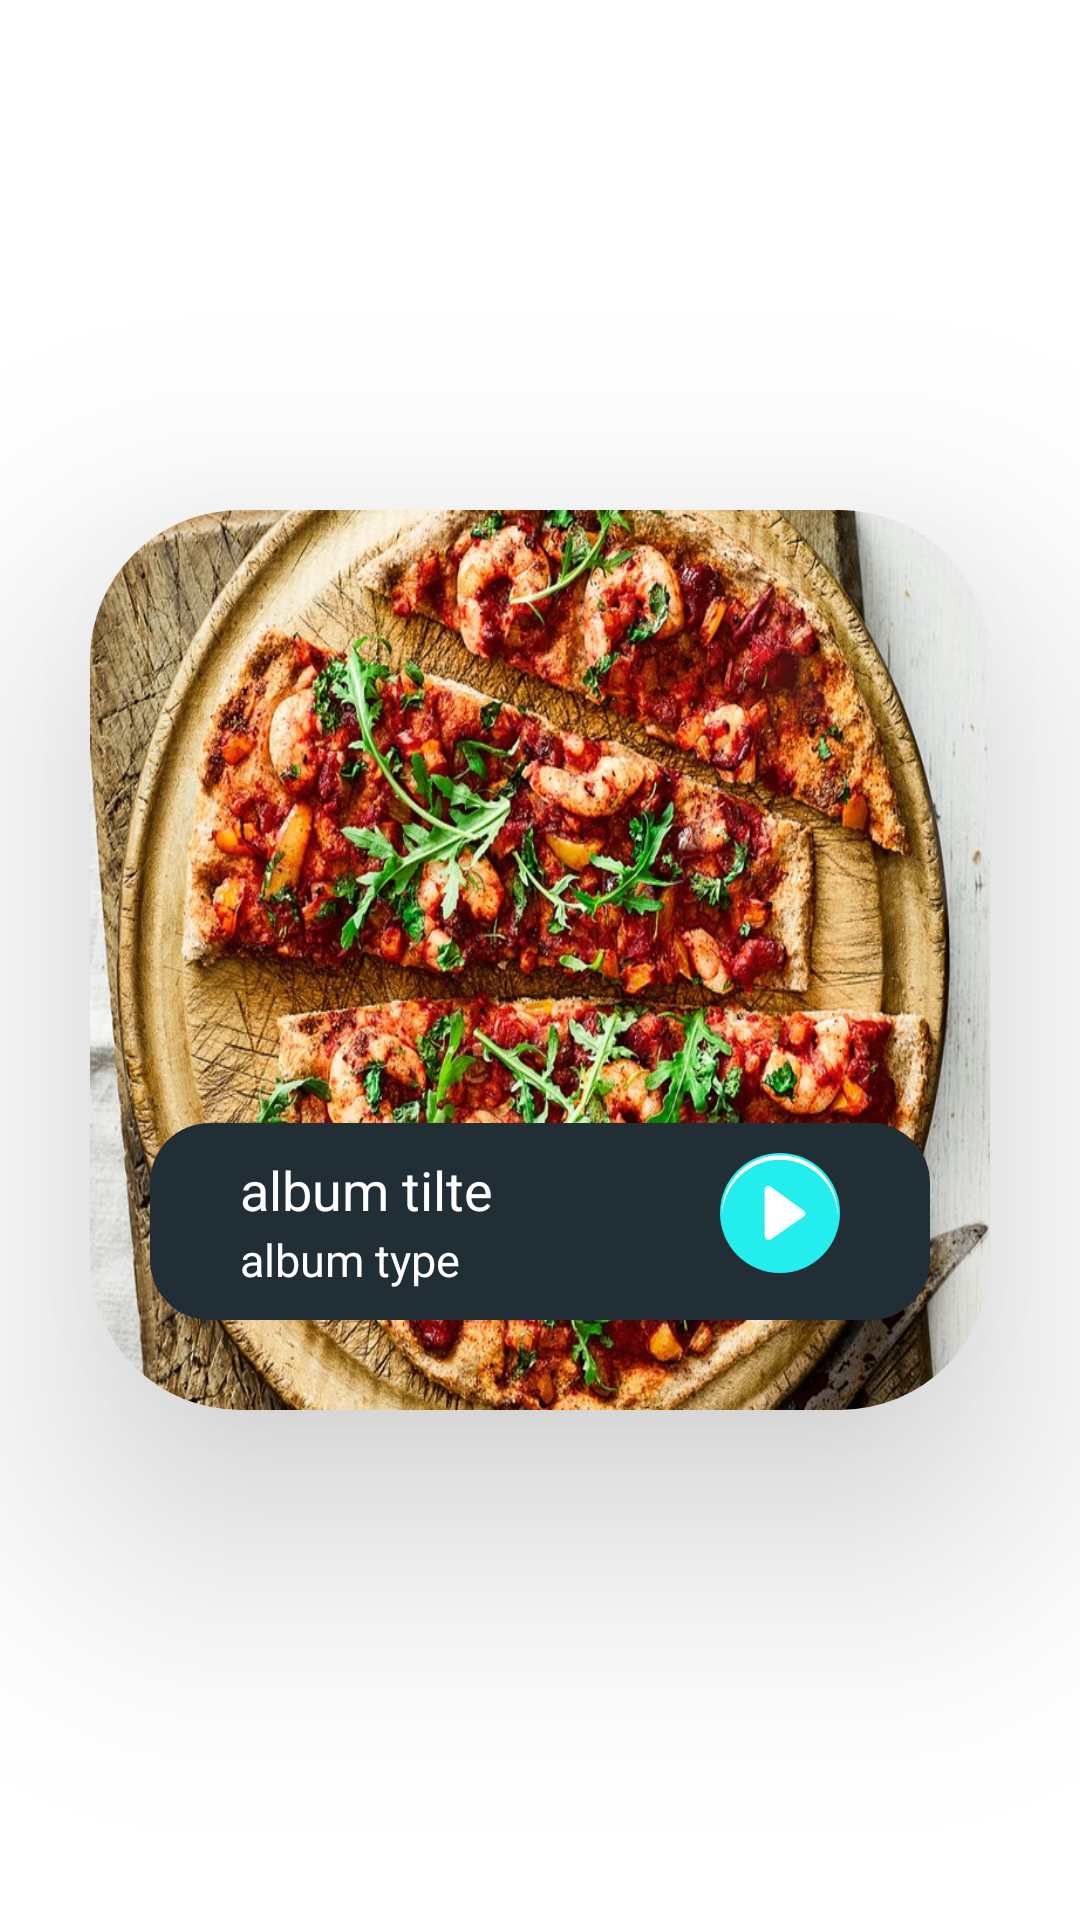

Locate icon controls on the screen. Image size 1080*1920, boxes as (x1, y1, x2, y2).
play: (720, 1153, 840, 1273)
